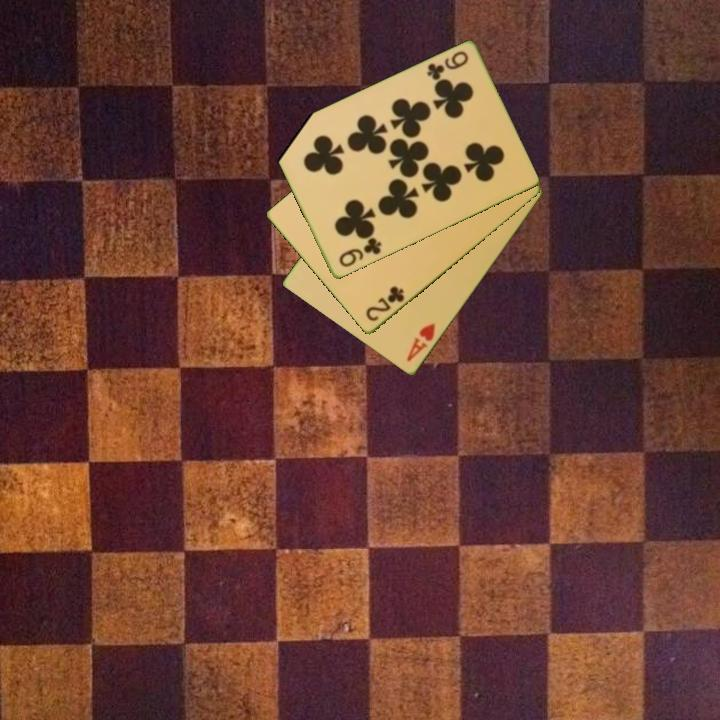2c: (362, 283, 407, 325)
9c: (335, 234, 385, 271), (423, 48, 471, 84)
Ah: (403, 320, 438, 365)
